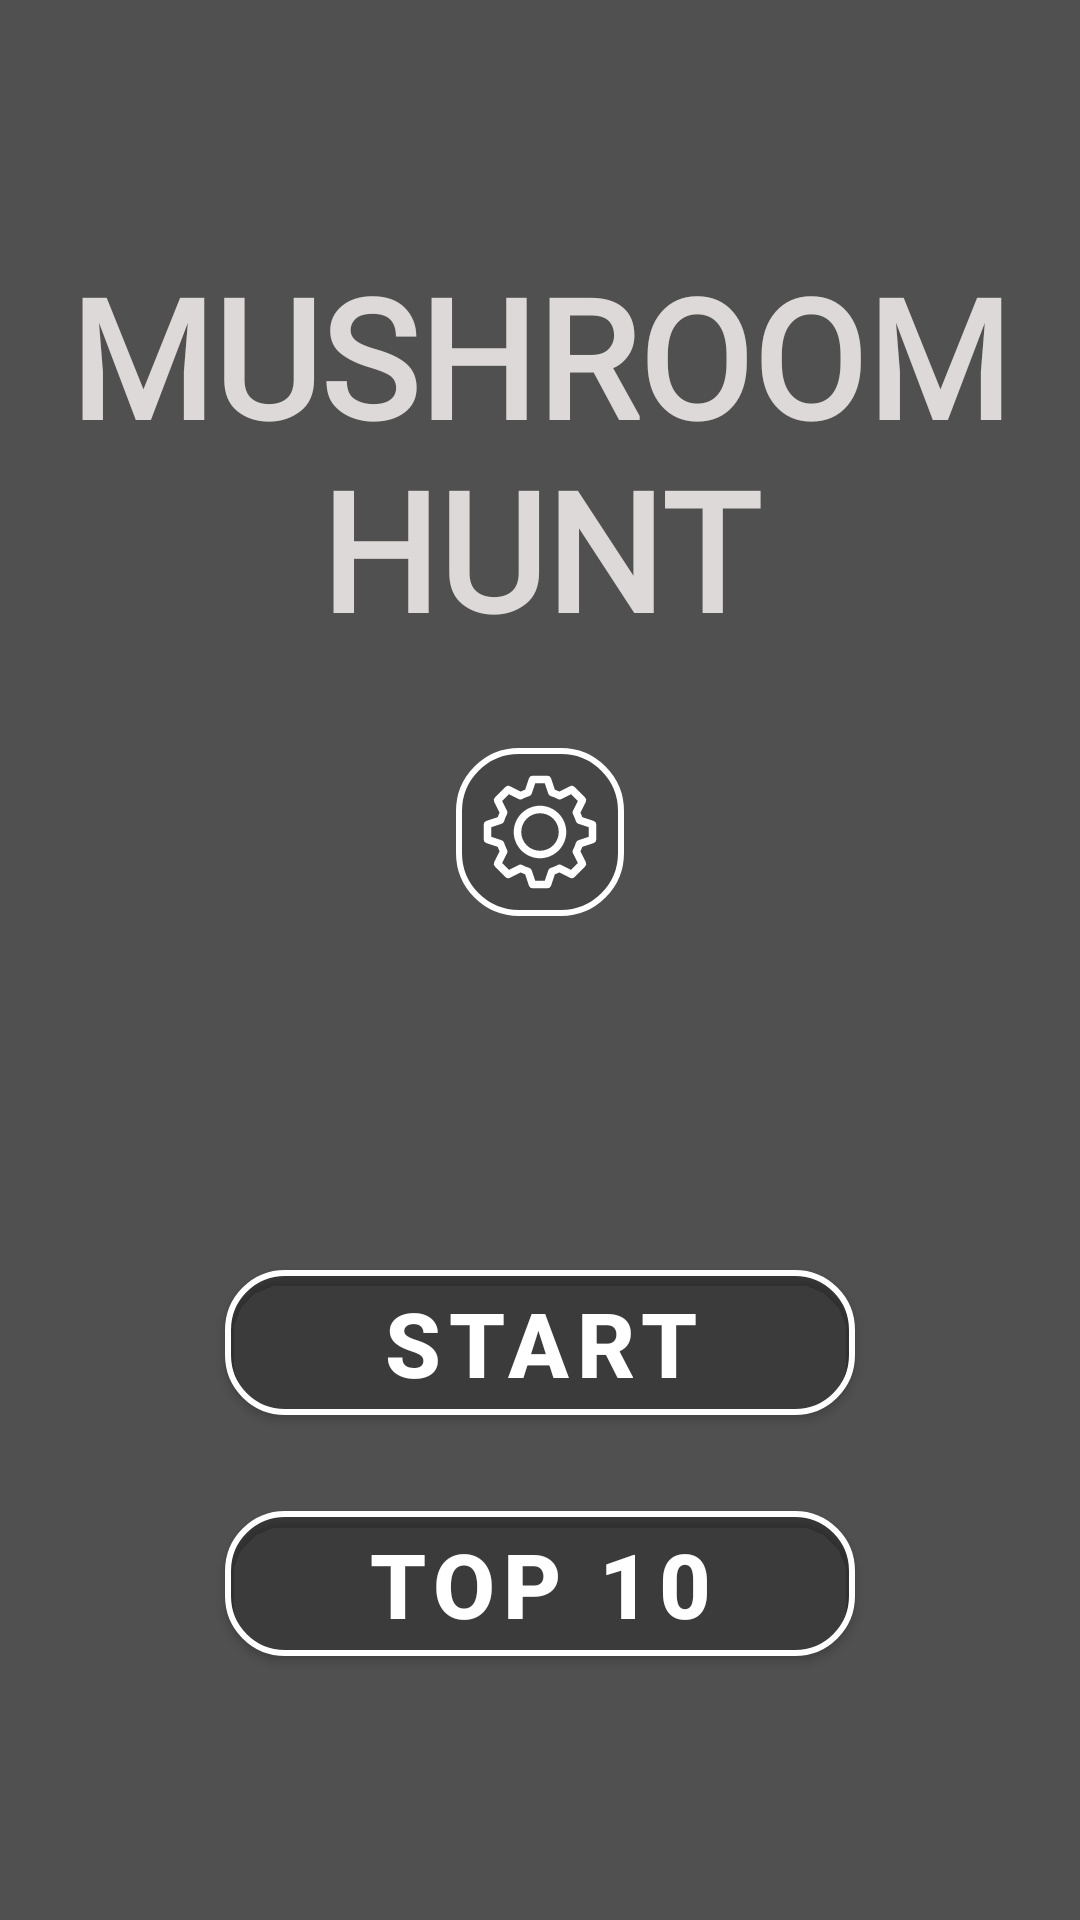

Icon bounding boxes for this 1080×1920 phone screenshot, format (x1, y1, x2, y2):
Settings: (483, 775, 597, 889)
